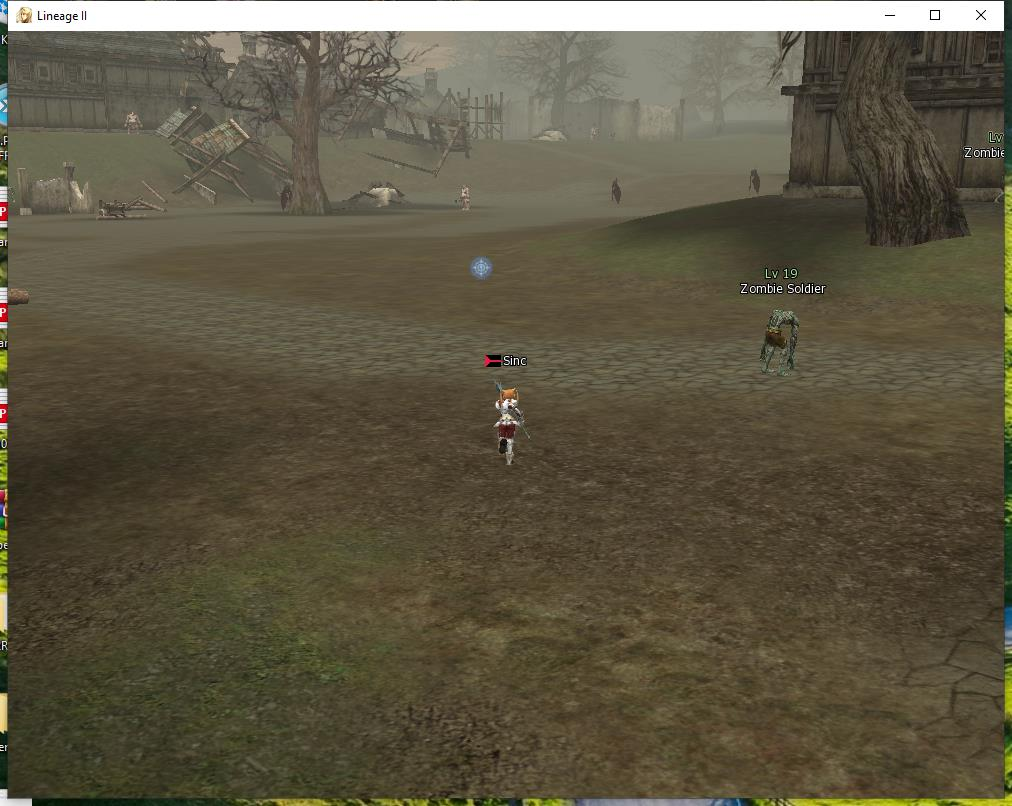monster: (738, 256, 825, 380), (607, 172, 636, 213), (450, 189, 484, 213), (742, 163, 765, 194), (279, 179, 294, 209)
